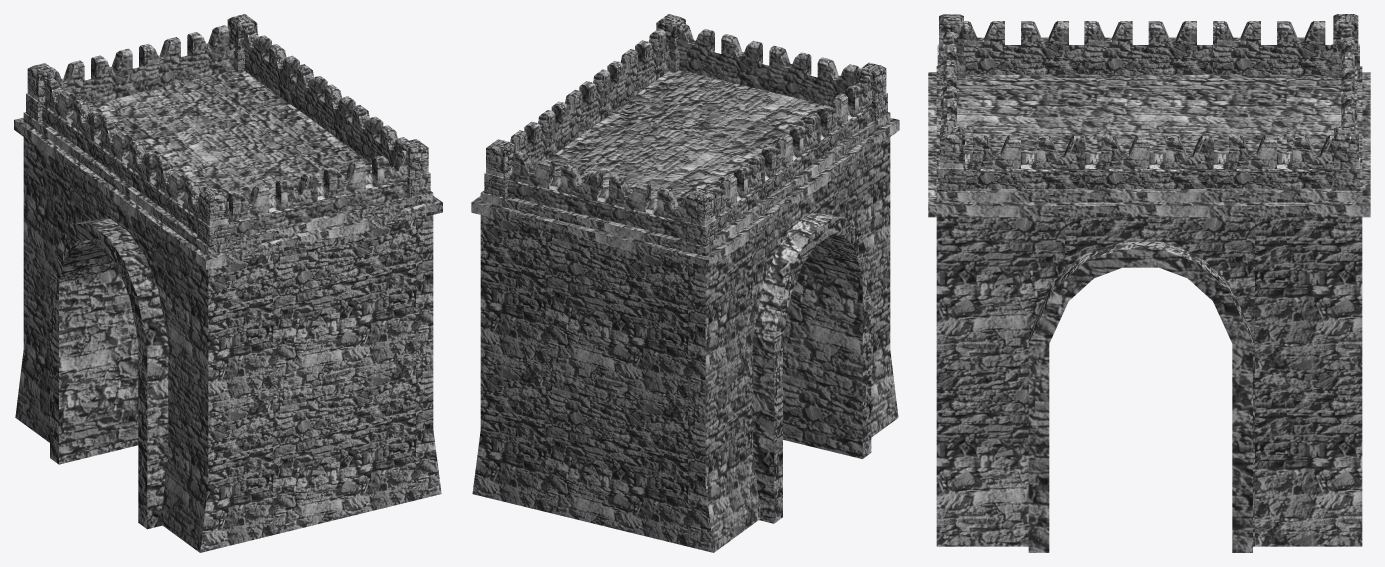
The model's file is castleSet_GateHouse.fbx.
The picture shows the model from 3 angles, left to right: view 1: azimuth 30°, elevation 25°; view 2: azimuth 150°, elevation 25°; view 3: azimuth 270°, elevation 25°; orthographic projection. The views are drawn at different scales.
Visible parts, largest first — view 1: Portal; view 2: Portal; view 3: Portal.
Boxes of the visible parts, left/top/right/bottom form: Portal: left=14, top=14, right=442, bottom=552; Portal: left=471, top=14, right=899, bottom=552; Portal: left=928, top=14, right=1370, bottom=552.
Bounding box in the file's own units: 26.99 × 35 × 34.42.
